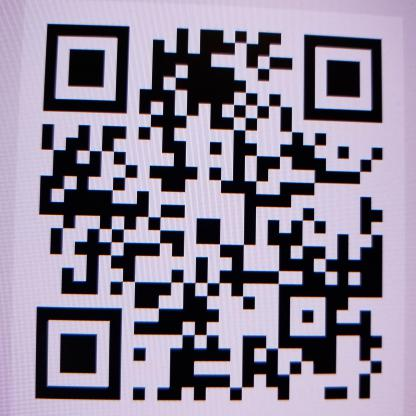qr: (27, 17, 393, 407)
